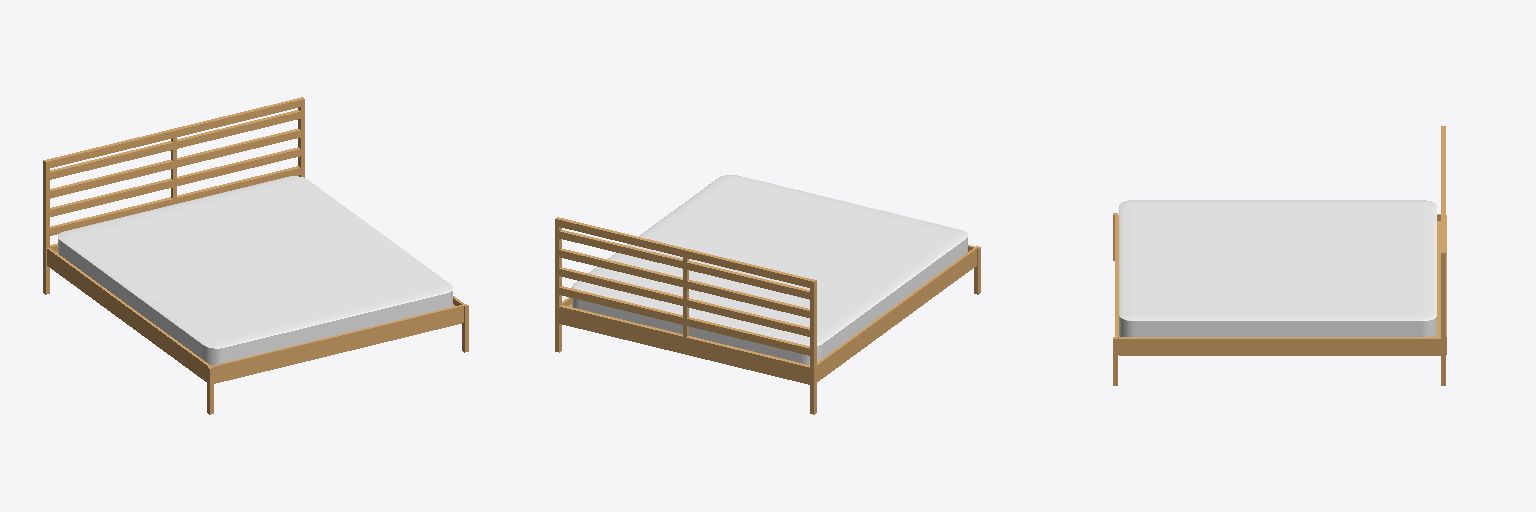
File: DoubleBed_Tarva.obj
3 renders of one model, left to right at view 1: azimuth 30°, elevation 25°; view 2: azimuth 150°, elevation 25°; view 3: azimuth 270°, elevation 25°, orthographic.
Parts seen in each view (by area): view 1: obj_0; view 2: obj_0; view 3: obj_0.
Boxes of the visible parts, x1=… form: obj_0: x1=43, y1=97, x2=468, y2=414; obj_0: x1=555, y1=175, x2=980, y2=414; obj_0: x1=1113, y1=126, x2=1446, y2=385.
Bounding box in the file's own units: 188 × 92 × 209.